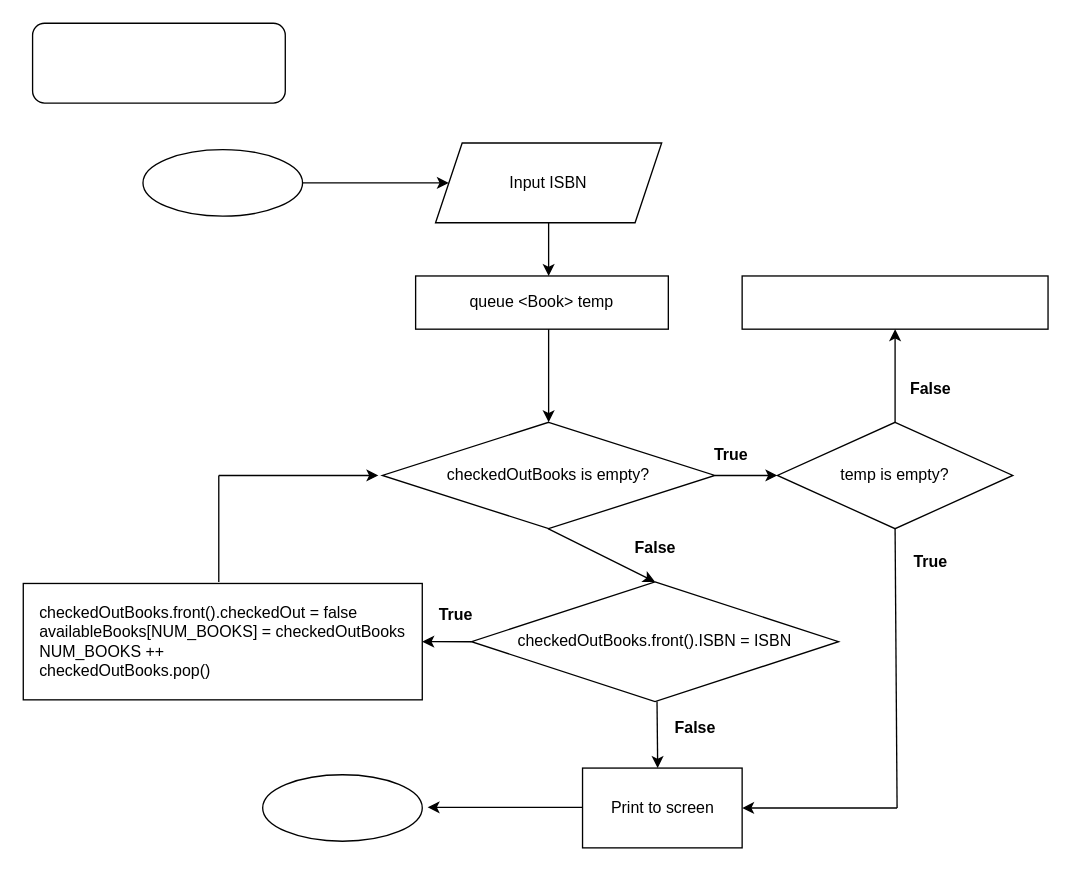
Image size: 1072x871. Some labels were removed from this diagram. Each missing label, with the centre of its shape:
checkedOutBooks.push(temp.front()) temp.pop(): (x=894, y=302)
END: (x=341, y=807)
Return Book: (x=158, y=62)
START: (x=222, y=182)
